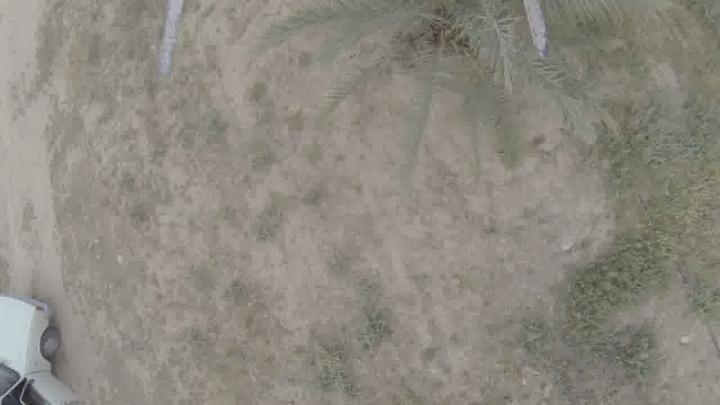Date-Palm-Crown: (308, 0, 596, 99)
